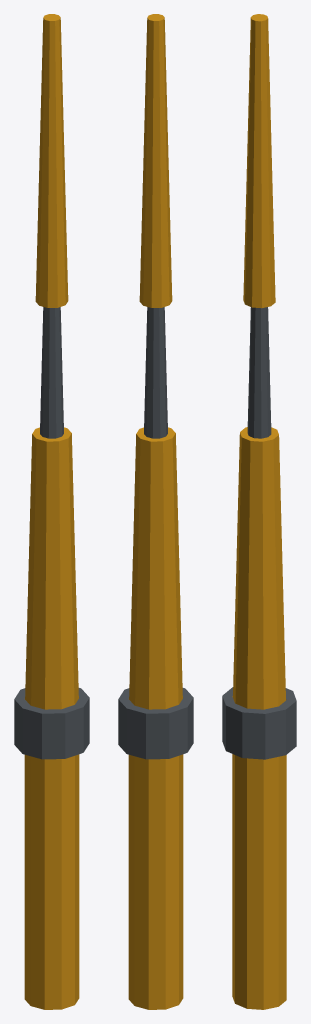
The model's file is Dropship_05_Antenna_Yellow.fbx.
The picture shows the model from 3 angles, left to right: view 1: azimuth 30°, elevation 25°; view 2: azimuth 210°, elevation 25°; view 3: azimuth 270°, elevation 25°; orthographic projection.
Parts seen in each view (by area): view 1: Dropship_05_Antenna_Yellow; view 2: Dropship_05_Antenna_Yellow; view 3: Dropship_05_Antenna_Yellow.
Boxes of the visible parts, x1=… form: Dropship_05_Antenna_Yellow: x1=14, y1=14, x2=89, y2=1009; Dropship_05_Antenna_Yellow: x1=118, y1=14, x2=193, y2=1009; Dropship_05_Antenna_Yellow: x1=222, y1=14, x2=296, y2=1009.
Size of the model in its own units: 18.18 by 264 by 18.17.
Materials: 1 (1 with a texture image).
